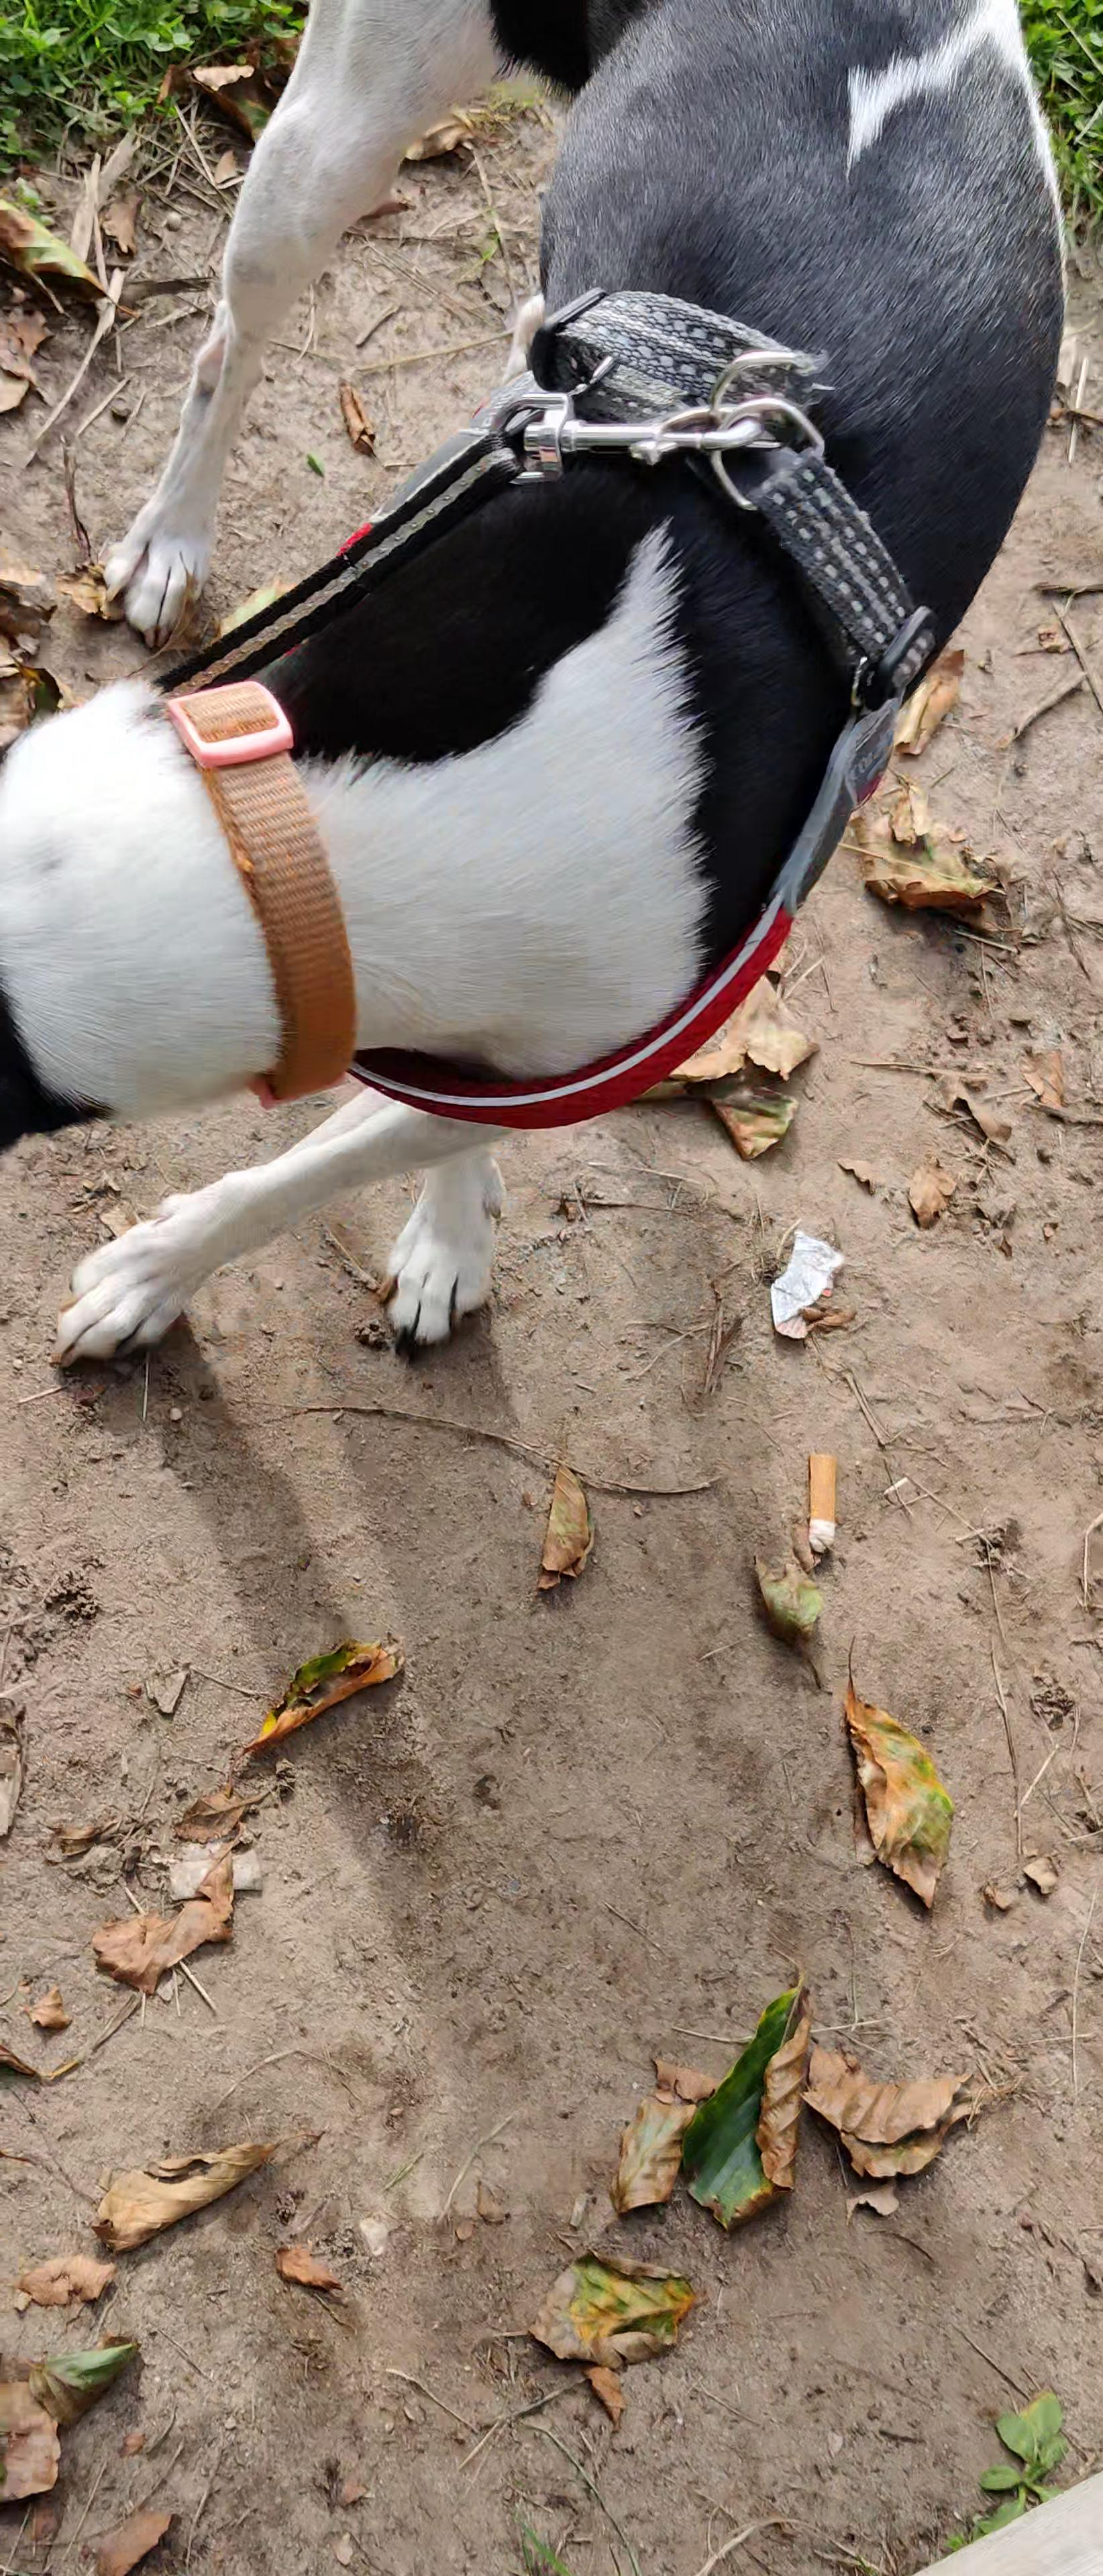Dog: (0, 5, 1072, 1375)
